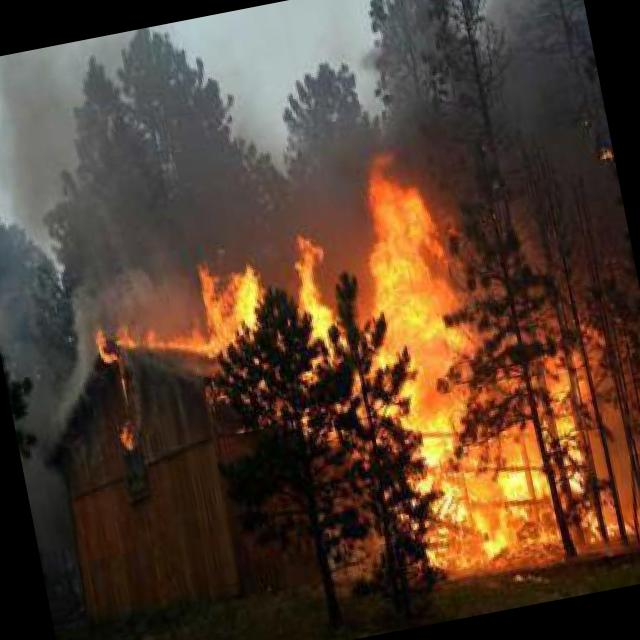Fire: (169, 116, 640, 622), (89, 308, 202, 377), (105, 409, 145, 464)
Smoke: (0, 5, 294, 214)
